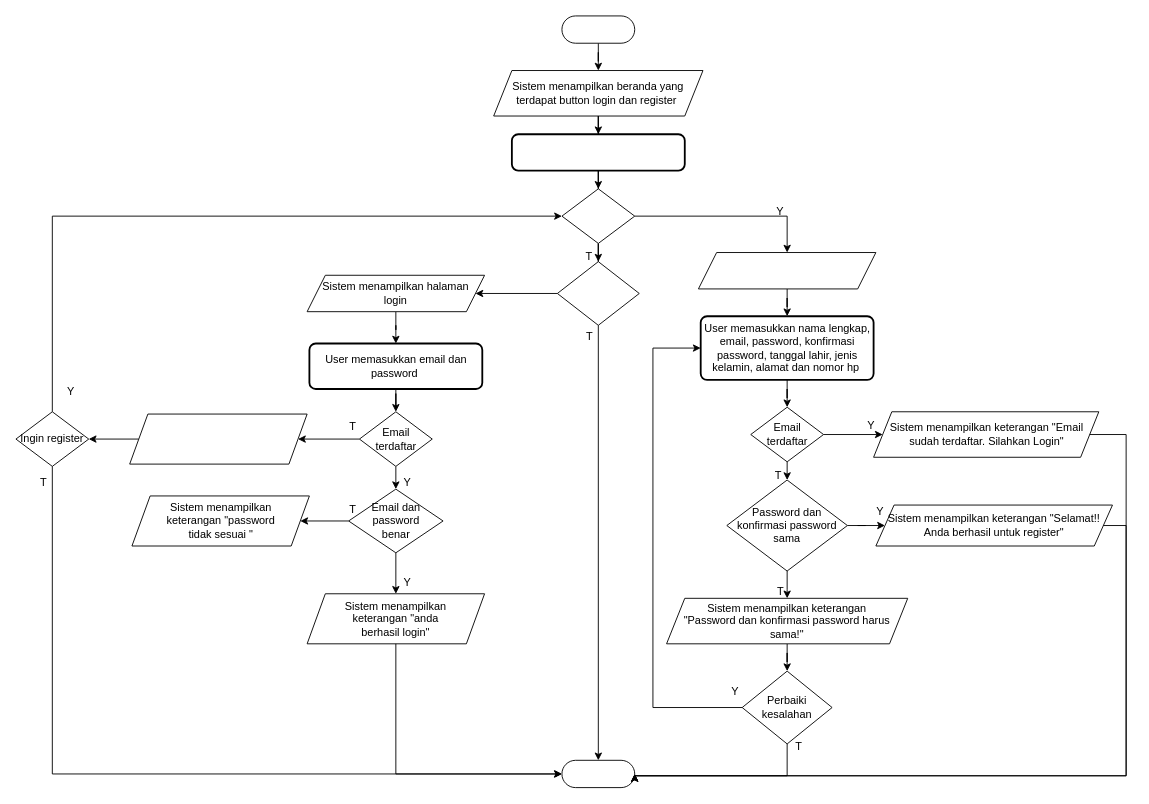
Some shapes in this 1149 by 804 pixel diagram are drawn without their labels. The shapes that lost their labels are listed below. From the top down, each one's centre as x and y in pixels, then its label:
the point at 598,29: Start
the point at 598,152: User mengklik salah satu button
the point at 598,215: Button Register
the point at 787,270: Sistem menampilkan halaman register
the point at 597,293: Button Login
the point at 218,438: Sistem menampilkan keterangan "email belum terdaftar"
the point at 598,773: End
